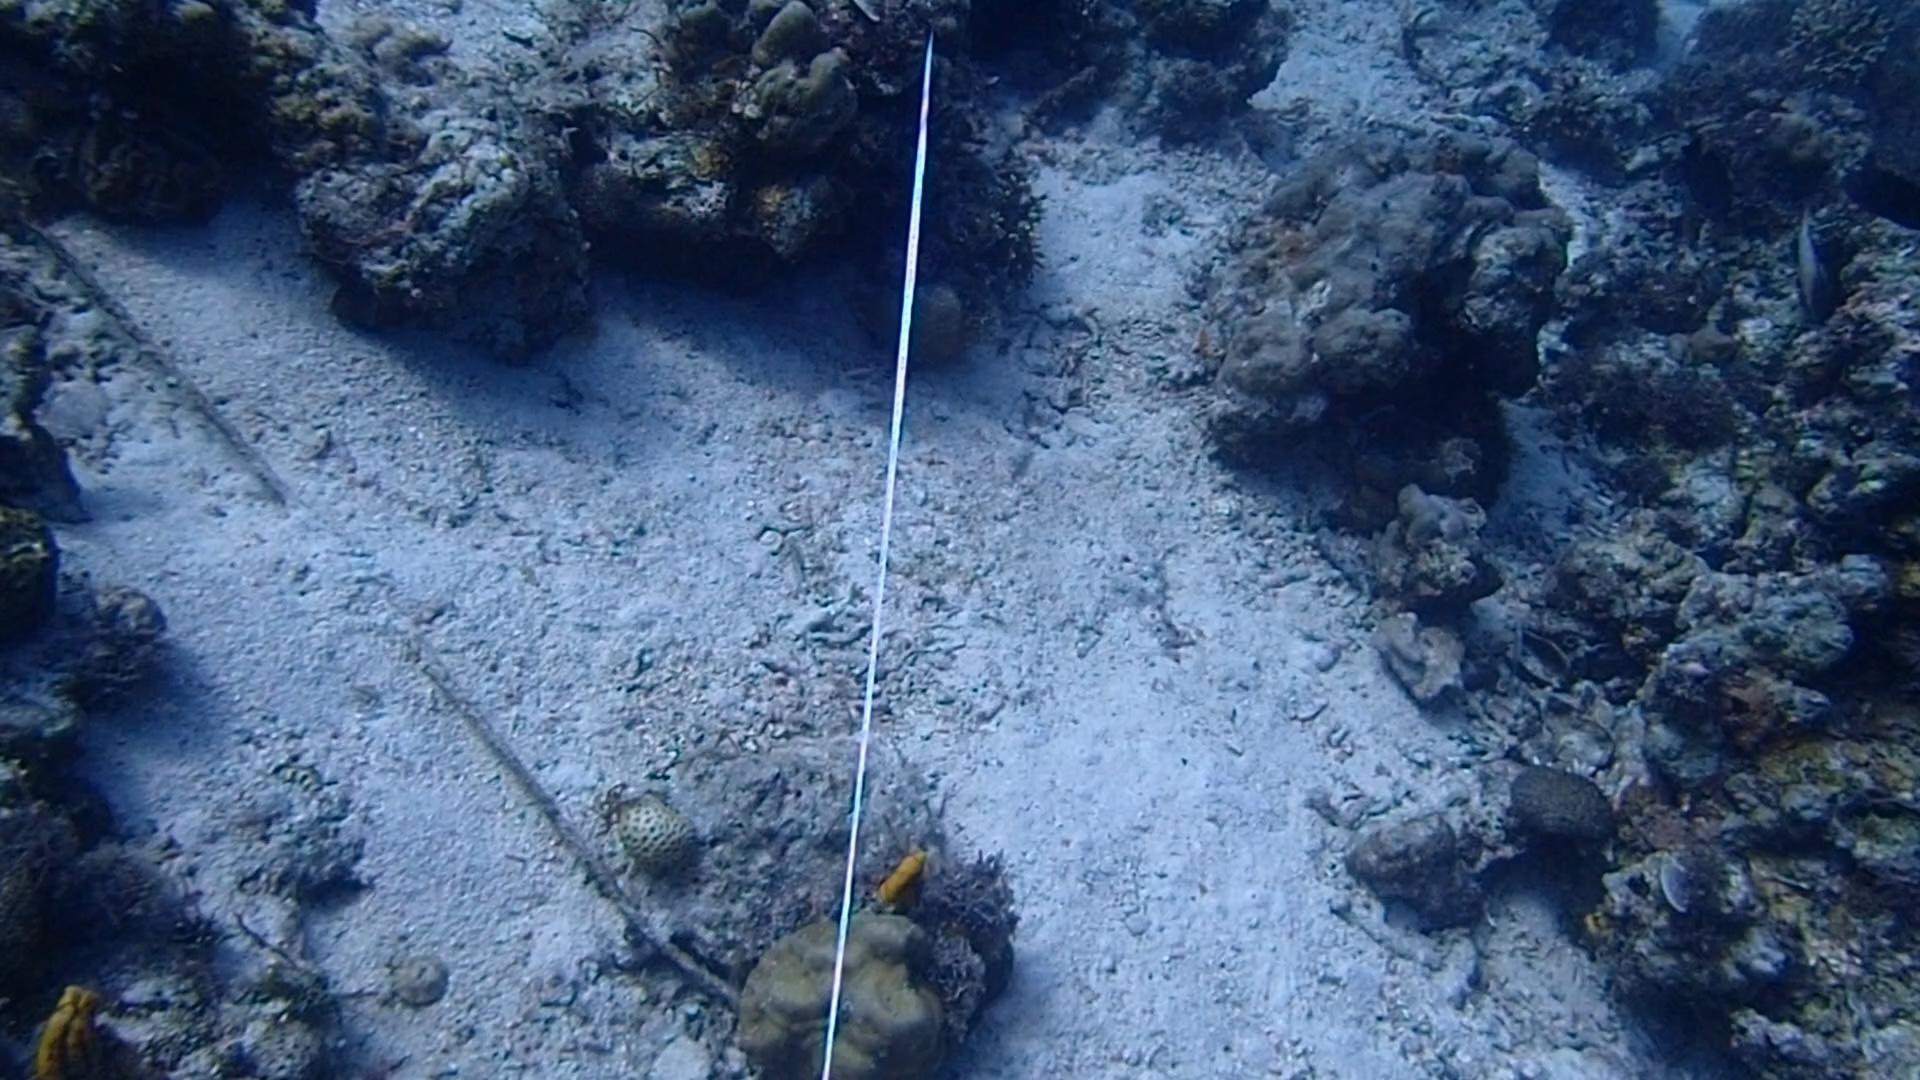Dark Fish: (1669, 127, 1739, 229), (1838, 156, 1920, 235)
